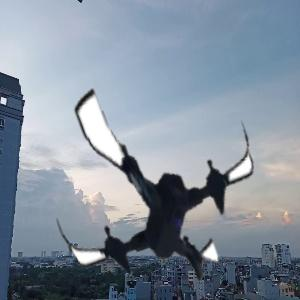drone: (40, 72, 267, 299)
